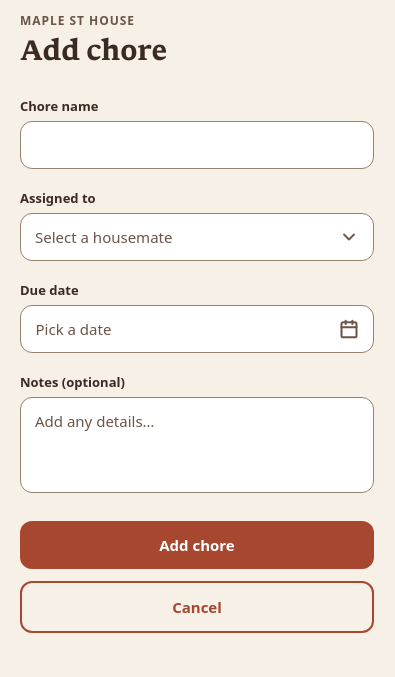
it: AddChore › lists the user first as You, then the housemates
The image size is (395, 677).
Click the dropdown named "Assigned to" at (197, 237), box top-left (20, 213), bottom-right (374, 261)
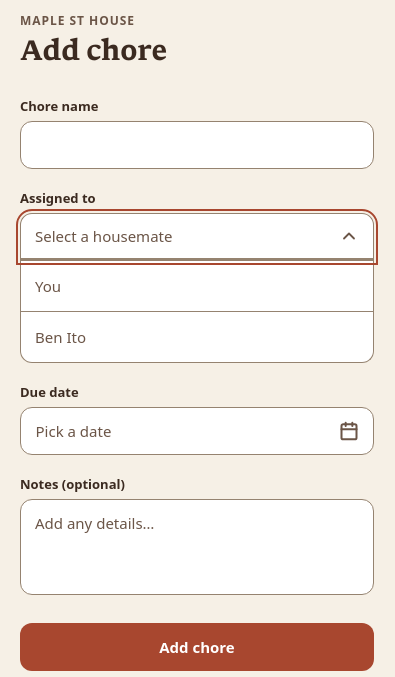
Now the options read "You", "Ben Ito", in this order, box top-left (20, 261), bottom-right (374, 312); top-left (20, 312), bottom-right (374, 363)
